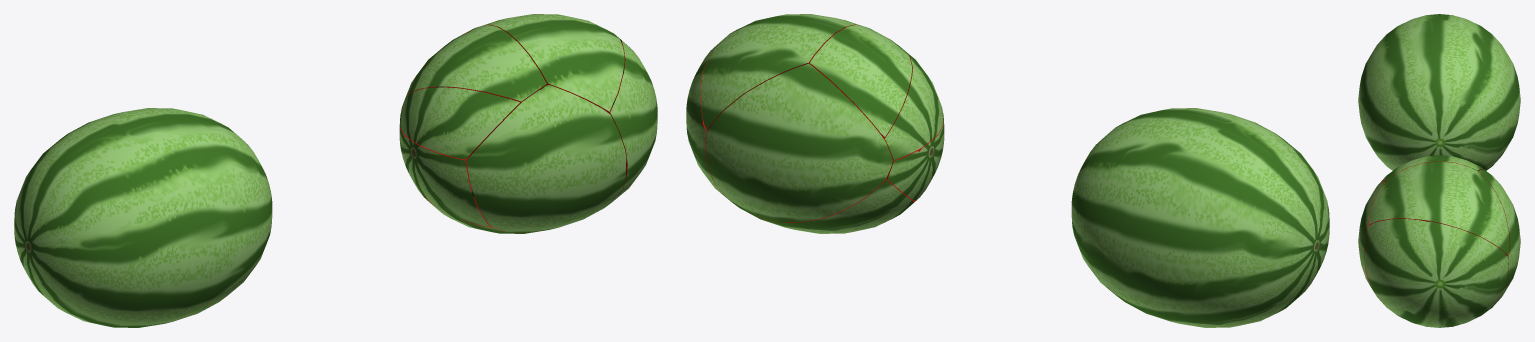
The model's file is watermelon.fbx.
The picture shows the model from 3 angles, left to right: view 1: azimuth 30°, elevation 25°; view 2: azimuth 150°, elevation 25°; view 3: azimuth 270°, elevation 25°; orthographic projection. The views are drawn at different scales.
Parts seen in each view (by area): view 1: watermelon, watermelon_cell, watermelon_cell.006, watermelon_cell.004, watermelon_cell.001, watermelon_cell.005, watermelon_cell.007; view 2: watermelon, watermelon_cell.002, watermelon_cell.006, watermelon_cell.004, watermelon_cell.001, watermelon_cell.003, watermelon_cell.007, watermelon_cell.005; view 3: watermelon, watermelon_cell.005, watermelon_cell.006, watermelon_cell.002, watermelon_cell, watermelon_cell.004.
Part boxes in pixels (x1,y1,x2,y2): watermelon: [14, 108, 272, 327]; watermelon_cell: [466, 85, 626, 233]; watermelon_cell.006: [485, 14, 624, 112]; watermelon_cell.004: [406, 24, 546, 105]; watermelon_cell.001: [400, 87, 519, 159]; watermelon_cell.005: [608, 37, 657, 198]; watermelon_cell.007: [399, 127, 490, 226]; watermelon: [1071, 108, 1329, 327]; watermelon_cell.002: [705, 63, 893, 222]; watermelon_cell.006: [700, 14, 861, 130]; watermelon_cell.004: [810, 24, 911, 137]; watermelon_cell.001: [883, 50, 943, 159]; watermelon_cell.003: [747, 178, 915, 233]; watermelon_cell.007: [886, 118, 944, 201]; watermelon_cell.005: [686, 37, 725, 196]; watermelon: [1358, 14, 1520, 170]; watermelon_cell.005: [1364, 219, 1508, 327]; watermelon_cell.006: [1368, 161, 1508, 255]; watermelon_cell.002: [1478, 169, 1520, 312]; watermelon_cell: [1358, 180, 1403, 318]; watermelon_cell.004: [1383, 155, 1482, 181].
Size of the model in its own units: 160 by 48.71 by 48.71.
